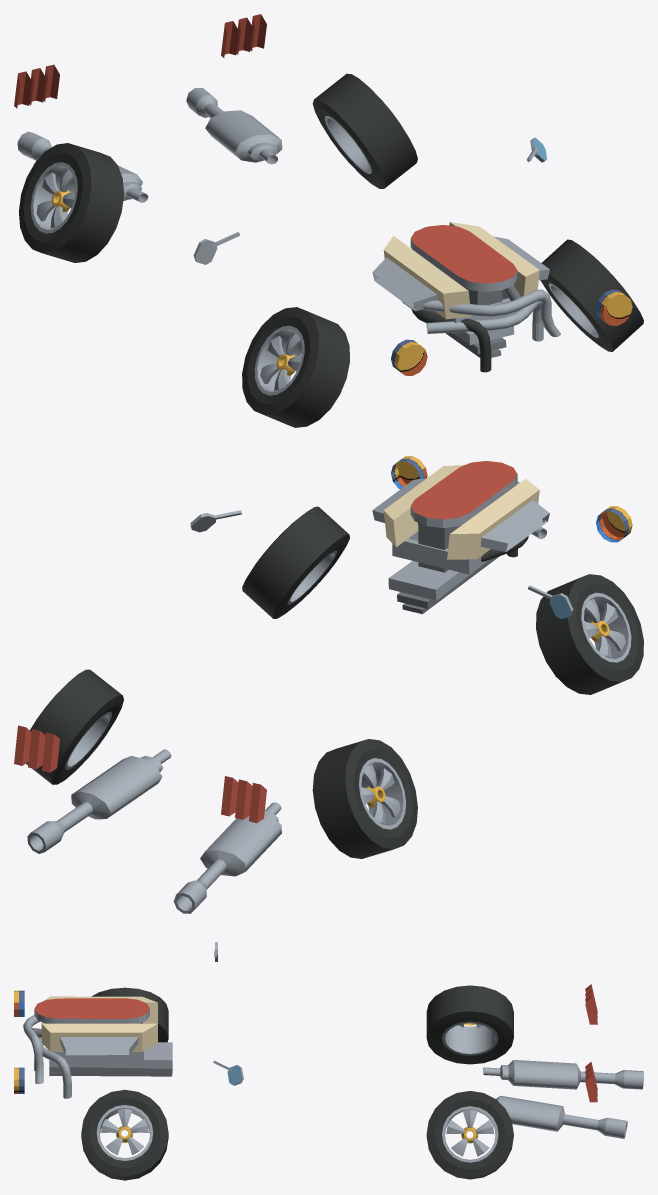
File: part_condivise_rotte.fbx
The picture shows the model from 3 angles, top to bottom: view 1: azimuth 30°, elevation 25°; view 2: azimuth 150°, elevation 25°; view 3: azimuth 270°, elevation 25°; orthographic projection. The views are drawn at different scales.
Parts seen in each view (by area): view 1: motore_rotto_2, ruota_ant_dx_rotta, ruota_post_dx_rotta, ruota_post_sx_rotta1, ruota_ant_sx_rotta1, scarico_nuovo_4, fari_post_rotti_2, fari_anteriori_rotti_2, specchietti_rotti_2; view 2: motore_rotto_2, ruota_post_dx_rotta, ruota_ant_dx_rotta, scarico_nuovo_4, ruota_ant_sx_rotta1, ruota_post_sx_rotta1, fari_post_rotti_2, fari_anteriori_rotti_2, specchietti_rotti_2; view 3: motore_rotto_2, ruota_post_dx_rotta, ruota_ant_sx_rotta1, scarico_nuovo_4, ruota_post_sx_rotta1, ruota_ant_dx_rotta, fari_post_rotti_2, fari_anteriori_rotti_2, specchietti_rotti_2.
Boxes of the visible parts, left/top/right/bottom form: motore_rotto_2: left=372, top=222, right=560, bottom=372; ruota_ant_dx_rotta: left=242, top=307, right=349, bottom=427; ruota_post_dx_rotta: left=19, top=143, right=123, bottom=262; ruota_post_sx_rotta1: left=312, top=73, right=417, bottom=188; ruota_ant_sx_rotta1: left=540, top=239, right=643, bottom=351; scarico_nuovo_4: left=17, top=88, right=282, bottom=202; fari_post_rotti_2: left=14, top=14, right=266, bottom=108; fari_anteriori_rotti_2: left=391, top=289, right=632, bottom=375; specchietti_rotti_2: left=193, top=137, right=546, bottom=264; motore_rotto_2: left=372, top=461, right=549, bottom=614; ruota_post_dx_rotta: left=312, top=739, right=417, bottom=858; ruota_ant_dx_rotta: left=536, top=574, right=643, bottom=694; scarico_nuovo_4: left=27, top=749, right=281, bottom=913; ruota_ant_sx_rotta1: left=242, top=506, right=349, bottom=618; ruota_post_sx_rotta1: left=26, top=669, right=123, bottom=784; fari_post_rotti_2: left=14, top=725, right=266, bottom=823; fari_anteriori_rotti_2: left=391, top=456, right=632, bottom=542; specchietti_rotti_2: left=190, top=510, right=573, bottom=618; motore_rotto_2: left=23, top=996, right=172, bottom=1098; ruota_post_dx_rotta: left=426, top=985, right=513, bottom=1064; ruota_ant_sx_rotta1: left=81, top=1089, right=168, bottom=1180; scarico_nuovo_4: left=483, top=1060, right=643, bottom=1138; ruota_post_sx_rotta1: left=426, top=1091, right=513, bottom=1179; ruota_ant_dx_rotta: left=91, top=987, right=168, bottom=1042; fari_post_rotti_2: left=585, top=984, right=597, bottom=1102; fari_anteriori_rotti_2: left=14, top=990, right=24, bottom=1093; specchietti_rotti_2: left=213, top=942, right=243, bottom=1085.
Size of the model in its own units: 230 by 89.56 by 432.
1 material, 1 textured.
